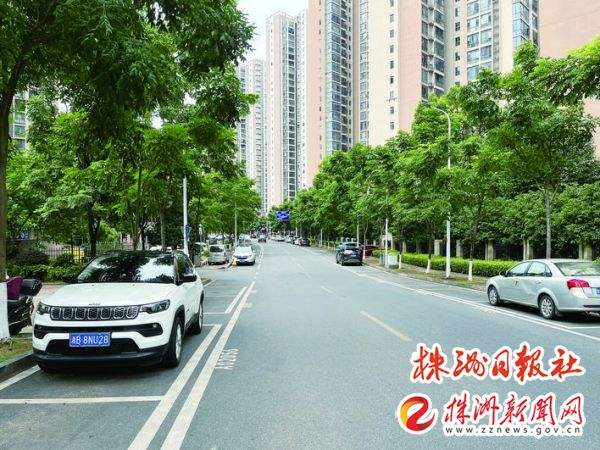slot_nocar: (191, 273, 254, 324), (339, 256, 417, 290), (416, 280, 492, 307)
